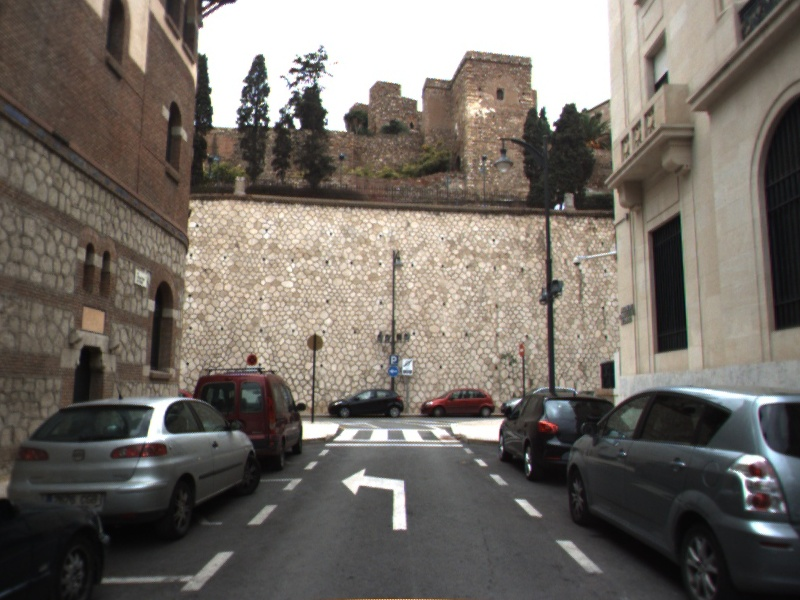LEFT: (340, 466, 409, 531)
